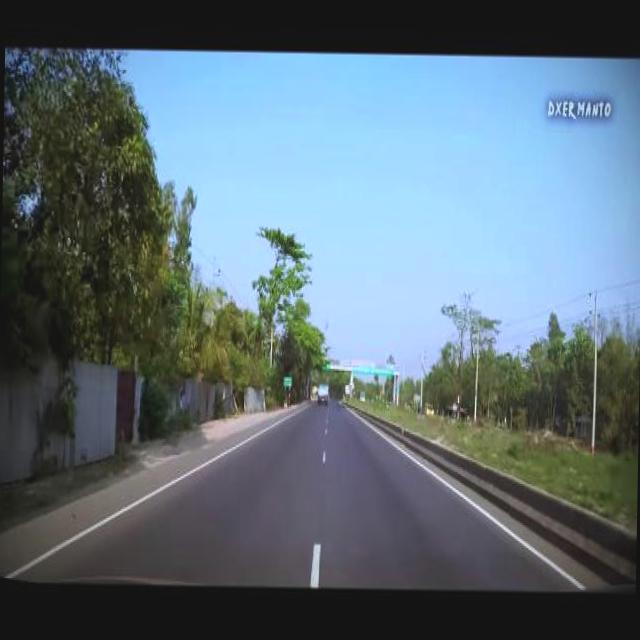truck: (314, 380, 328, 406), (416, 398, 434, 414)
